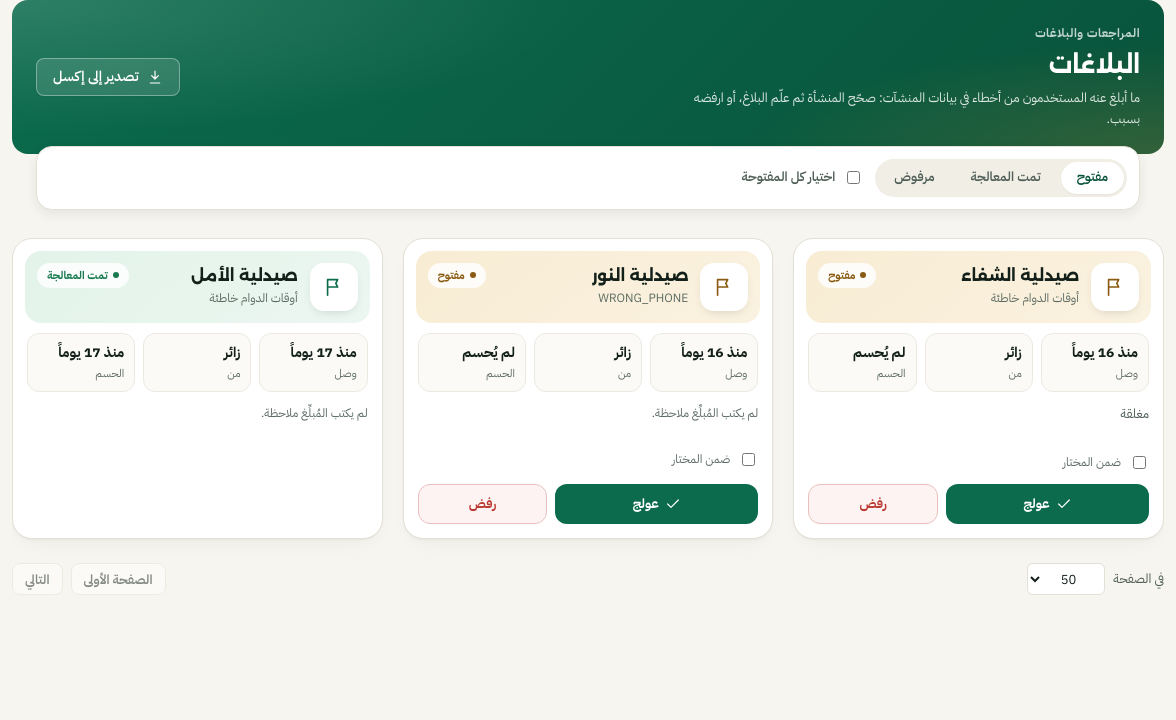
Scenario: deciding many reports at once › selects every open report, and only those
Expected: the link "صيدلية الشفاء" is shown, [961,266,1079,285]
Click the checkbox with test id "select-all".
click(854, 178)  # box [847,171,860,184]
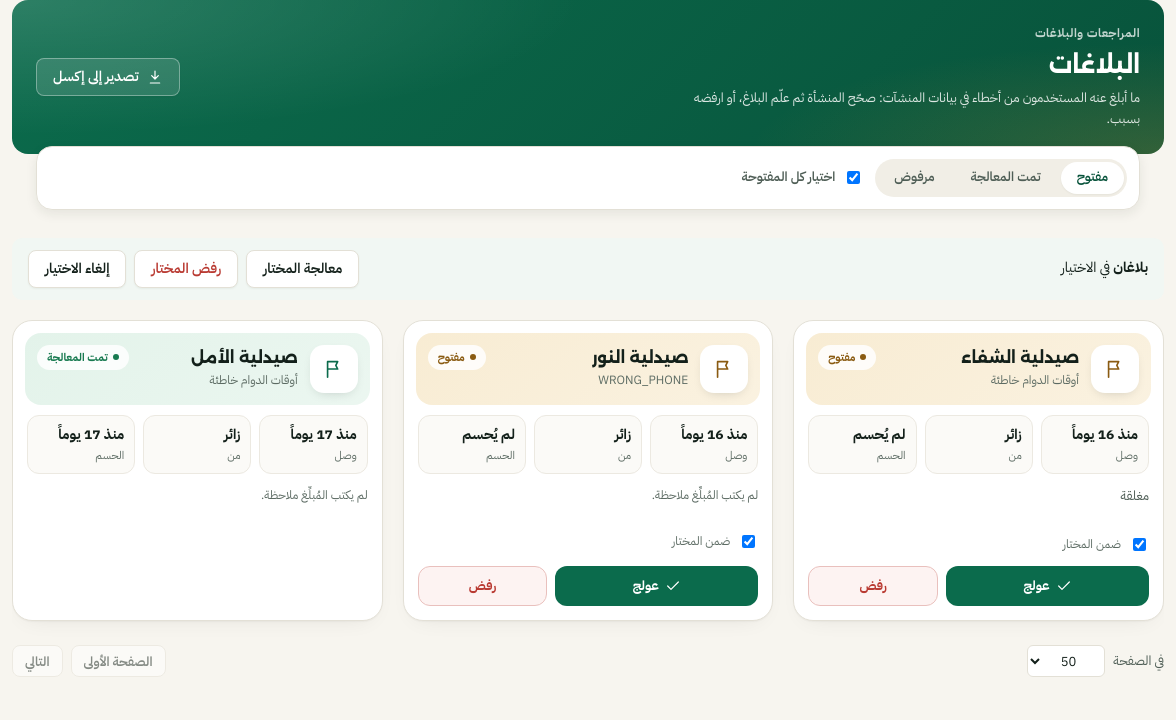
Expected: the element with test id "bulk-bar" shows "بلاغان", [1113,257,1148,278]
